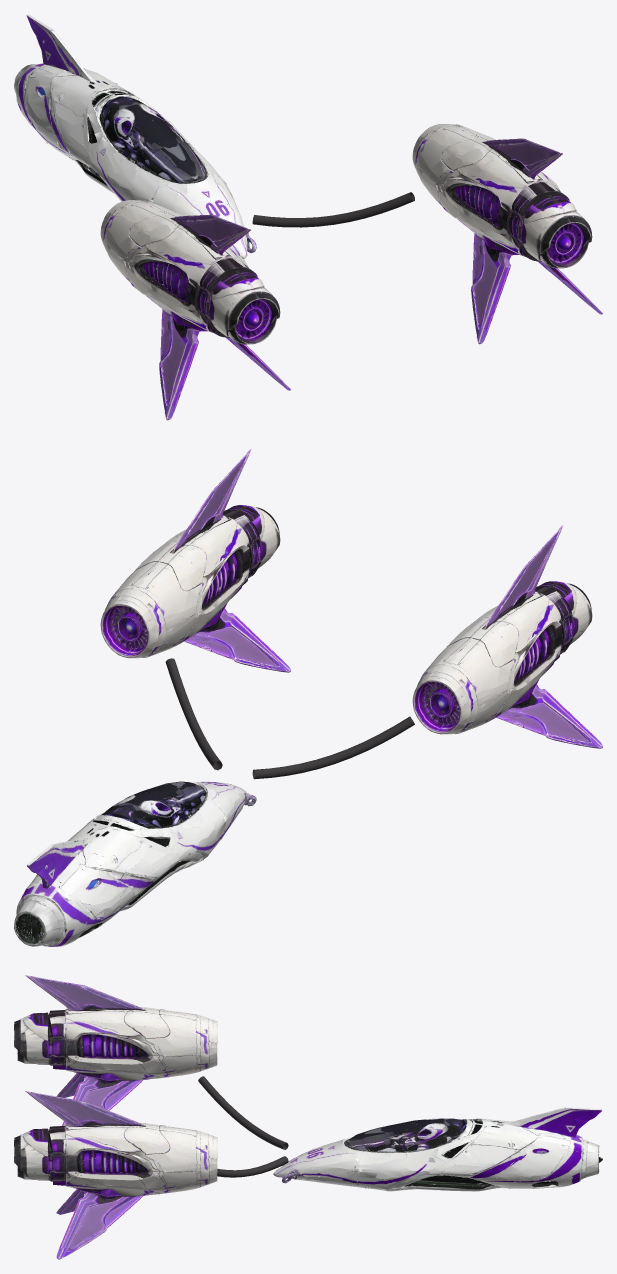
Rendered from glasswing-hero.glb.
The picture shows the model from 3 angles, top to bottom: view 1: azimuth 30°, elevation 25°; view 2: azimuth 150°, elevation 25°; view 3: azimuth 270°, elevation 25°; orthographic projection. The views are drawn at different scales.
Visible parts, largest first — view 1: glasswing-cockpit-body, glasswing-engine-left-body, glasswing-engine-right-body, glasswing-tow-cables; view 2: glasswing-cockpit-body, glasswing-engine-left-body, glasswing-engine-right-body, glasswing-tow-cables; view 3: glasswing-cockpit-body, glasswing-engine-right-body, glasswing-engine-left-body, glasswing-tow-cables.
Part boxes in pixels (x1=…): glasswing-cockpit-body: x1=14, y1=14, x2=256, y2=258; glasswing-engine-left-body: x1=100, y1=200, x2=290, y2=420; glasswing-engine-right-body: x1=412, y1=124, x2=602, y2=344; glasswing-tow-cables: x1=252, y1=192, x2=414, y2=227; glasswing-cockpit-body: x1=14, y1=781, x2=256, y2=946; glasswing-engine-left-body: x1=412, y1=525, x2=602, y2=748; glasswing-engine-right-body: x1=100, y1=449, x2=290, y2=672; glasswing-tow-cables: x1=165, y1=658, x2=414, y2=779; glasswing-cockpit-body: x1=273, y1=1107, x2=602, y2=1191; glasswing-engine-right-body: x1=14, y1=1091, x2=217, y2=1259; glasswing-engine-left-body: x1=14, y1=975, x2=217, y2=1125; glasswing-tow-cables: x1=198, y1=1076, x2=288, y2=1177.
Size of the model in its own units: 10.94 by 4.8 by 16.8.
Materials: 3 (2 with a texture image).
